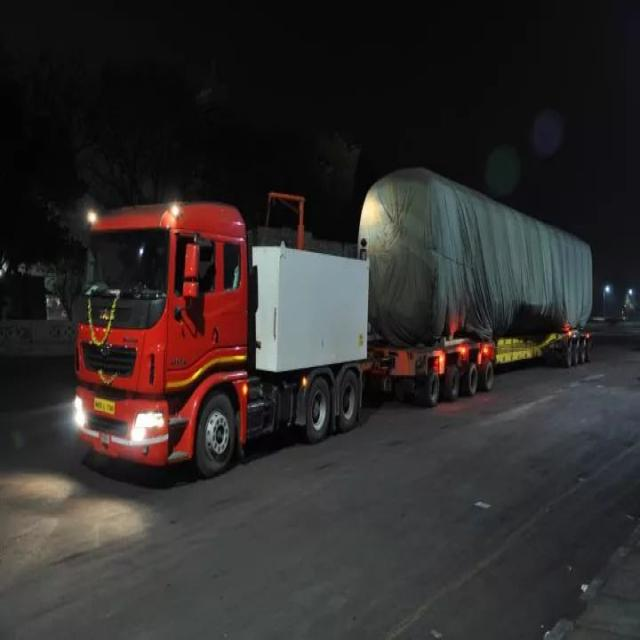truck: (74, 168, 592, 475)
